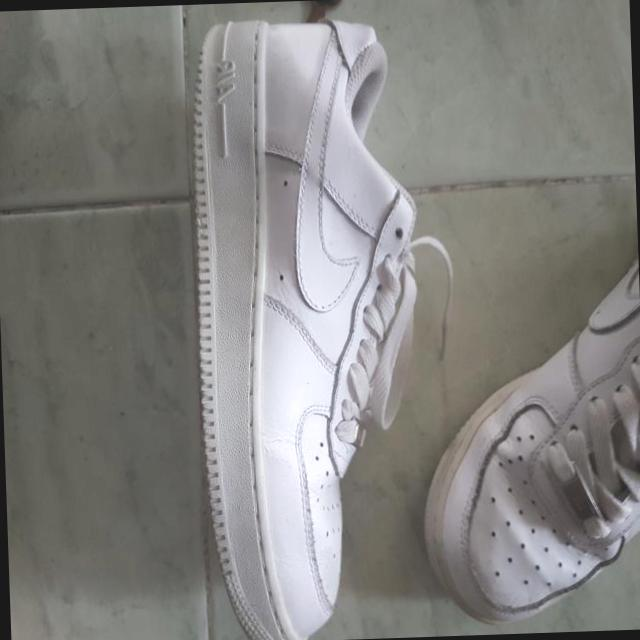nike_original_airforce: (169, 295, 640, 594), (274, 0, 635, 309)
